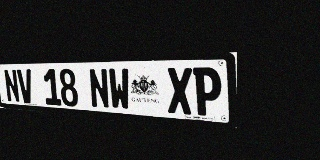1: (42, 69, 62, 106)
8: (58, 69, 79, 107)
N: (88, 68, 110, 109), (3, 69, 20, 103)
P: (193, 67, 221, 117)
V: (17, 69, 34, 104)
W: (108, 68, 131, 110)
X: (166, 67, 193, 115)
